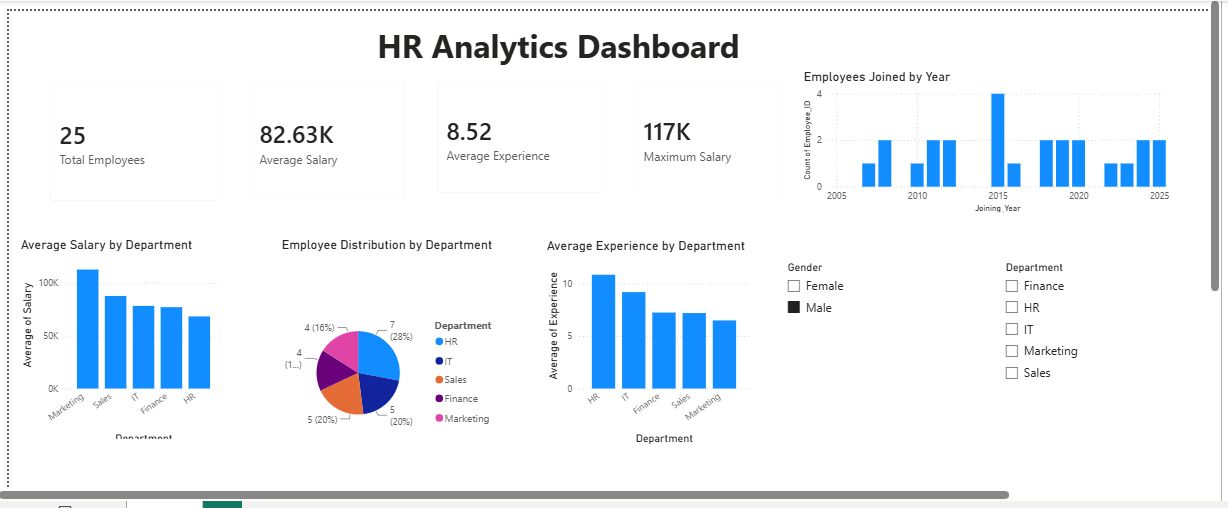

Layout of this report page (visuals, bound fields, positions):
{"tool":"powerbi","page":{"name":"Page 1","canvas":[1920,1080],"ordinal":0},"visuals":[{"type":"clusteredColumnChart","title":"Average Salary by Department","fields":{"Category":["Employees.Department"],"Y":["Avg(Employees.Salary)"]},"box":[10.8,301.4,278.4,281.1],"z":0},{"type":"pieChart","title":"Employee Distribution by Department","fields":{"Category":["Employees.Department"],"Y":["CountNonNull(Employees.Employee_ID)"]},"box":[358.1,301.4,306.8,343.2],"z":1000},{"type":"clusteredColumnChart","title":"Average Experience by Department","fields":{"Category":["Employees.Department"],"Y":["Avg(Employees.Experience)"]},"box":[712.2,302.7,279.7,279.7],"z":2000},{"type":"slicer","fields":{"Values":["Employees.Gender"]},"box":[1025.7,328.4,279.7,212.2],"z":3000},{"type":"slicer","fields":{"Values":["Employees.Department"]},"box":[1316.2,328.4,279.7,189.2],"z":4000},{"type":"textbox","box":[10,570,280,150],"z":5000},{"type":"textbox","box":[438.4,11.8,587.9,75.6],"z":6000},{"type":"clusteredColumnChart","title":"Employees Joined by Year","fields":{"Y":["CountNonNull(Employees.Employee_ID)"],"Category":["Employees.Joining_Year"]},"box":[1054.1,77,498.6,195.9],"z":7000},{"type":"cardVisual","fields":{"Data":["Employees.Total_emp"]},"box":[37.8,77,259.5,193.2],"z":8000},{"type":"cardVisual","fields":{"Data":["Employees.Average_Sal"]},"box":[304.4,77,241.9,191.9],"z":9000},{"type":"cardVisual","fields":{"Data":["Employees.Average_Experience"]},"box":[553.4,77,255.4,182.4],"z":10000},{"type":"cardVisual","fields":{"Data":["Employees.Maximum_Sal"]},"box":[815.9,77,231,183],"z":11000}]}

Visuals, with their boxes on the page's 1920x1080 design canvas (x1, y1, x2, y2). These are canvas units, not pixel positions in the 1228x508 screenshot, which may show the page scaled, cropped or inside an application window:
"Average Salary by Department" clusteredColumnChart: box(11, 301, 289, 582)
"Employee Distribution by Department" pieChart: box(358, 301, 665, 645)
"Average Experience by Department" clusteredColumnChart: box(712, 303, 992, 582)
slicer - Employees.Gender: box(1026, 328, 1305, 541)
slicer - Employees.Department: box(1316, 328, 1596, 518)
textbox: box(10, 570, 290, 720)
textbox: box(438, 12, 1026, 87)
"Employees Joined by Year" clusteredColumnChart: box(1054, 77, 1553, 273)
cardVisual - Employees.Total_emp: box(38, 77, 297, 270)
cardVisual - Employees.Average_Sal: box(304, 77, 546, 269)
cardVisual - Employees.Average_Experience: box(553, 77, 809, 259)
cardVisual - Employees.Maximum_Sal: box(816, 77, 1047, 260)
